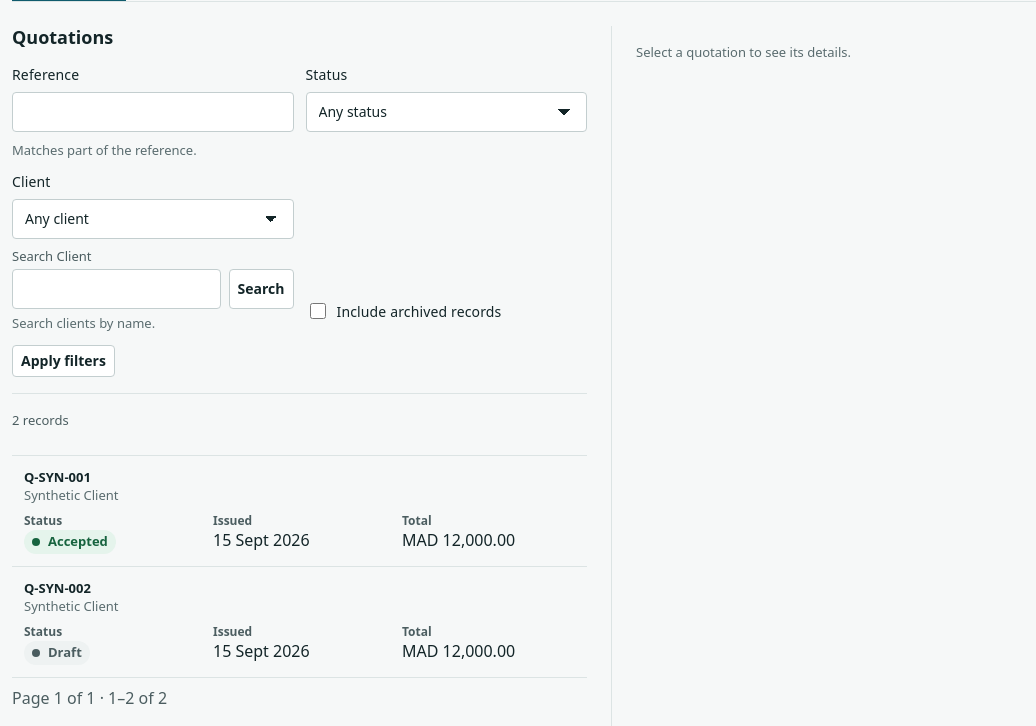
Test case: CommercialPanel: personas and permissions › keeps a read-only account free of every write and generation control
(page scrolled)
Click the button "Q-SYN-001": (57, 476) [24, 468, 91, 486]
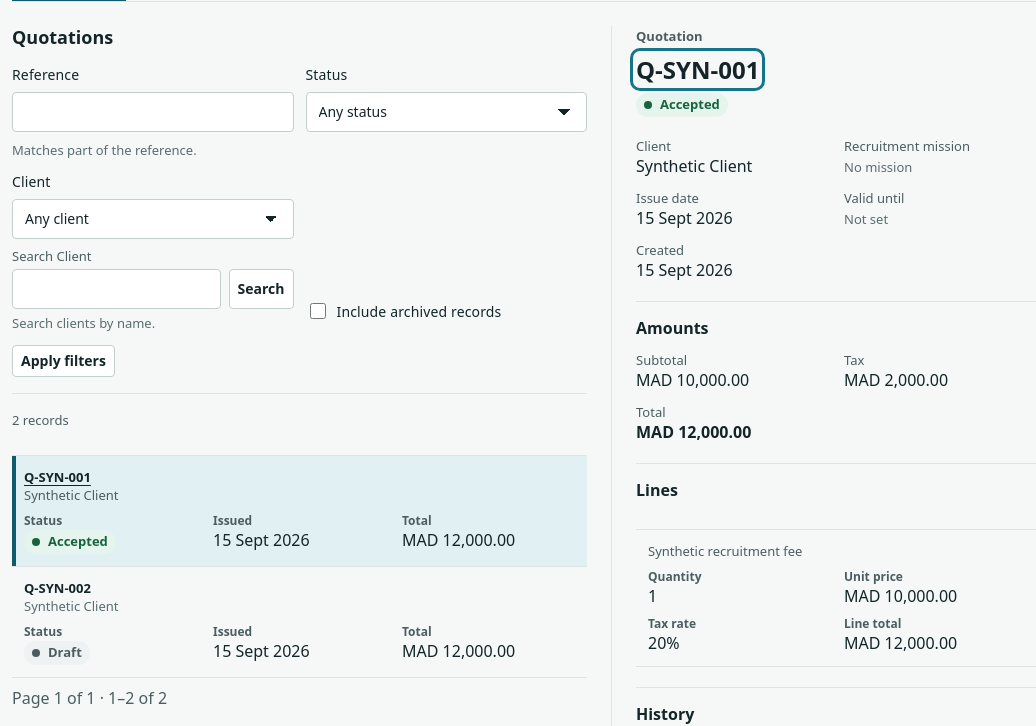
expect the heading "Q-SYN-001" is shown: met, box [636, 54, 760, 85]
expect the column heading "Synthetic recruitment fee" is shown: met, box [648, 542, 1024, 560]
